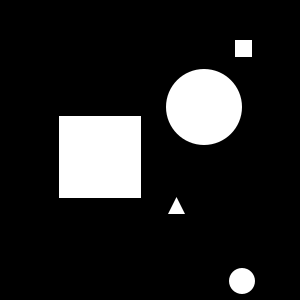circle: (59, 116, 141, 198), (235, 40, 252, 57)
rectangle: (166, 69, 242, 145), (229, 268, 255, 294)
triangle: (168, 197, 185, 214)
